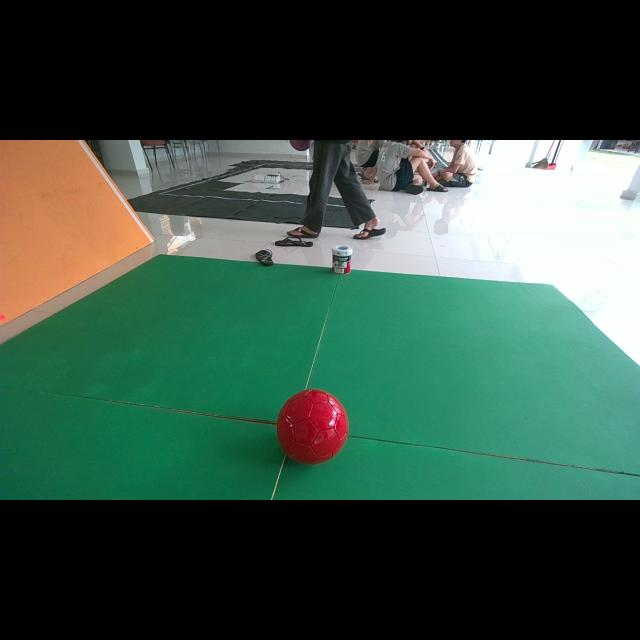R: (276, 389, 349, 465)
